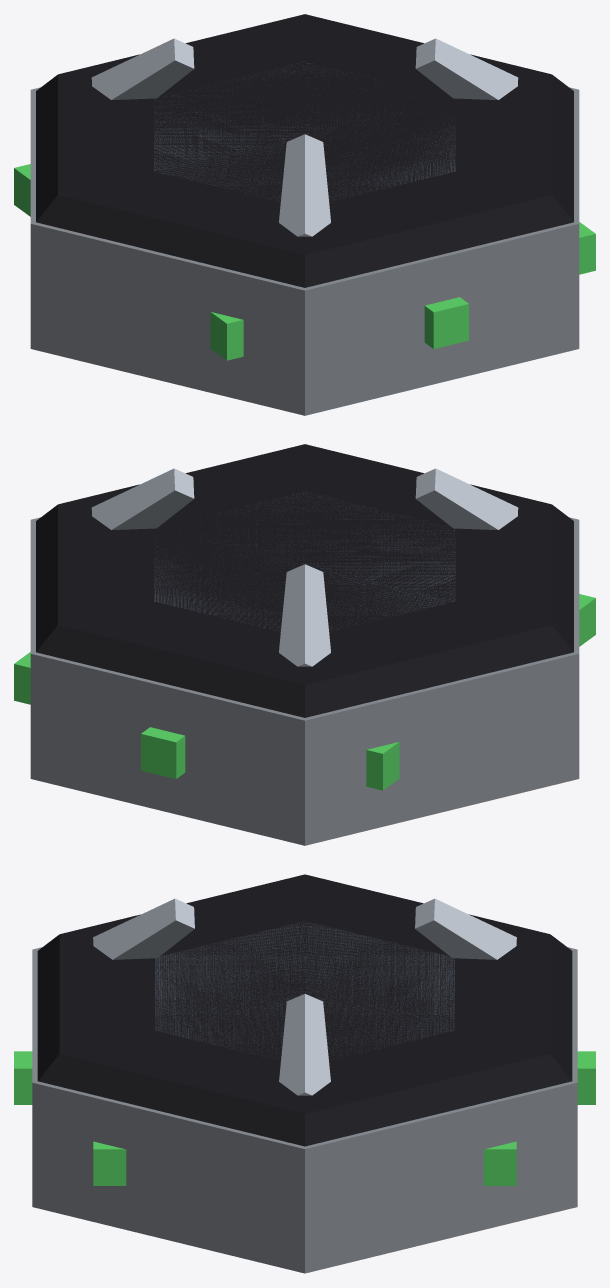
Rendered from ship_docking_clamp.obj.
3 renders of one model, top to bottom at view 1: azimuth 30°, elevation 25°; view 2: azimuth 150°, elevation 25°; view 3: azimuth 270°, elevation 25°, orthographic.
Parts seen in each view (by area): view 1: seal, collar, hooks, bore, leds; view 2: seal, collar, hooks, bore, leds; view 3: seal, collar, bore, hooks, leds.
Boxes of the visible parts, x1,y1,x2,y2 form: seal: (36,14,573,287); collar: (30,87,579,415); hooks: (91,38,518,236); bore: (154,63,455,201); leds: (14,164,595,360); seal: (36,444,573,717); collar: (30,517,579,845); hooks: (91,468,518,666); bore: (154,492,455,631); leds: (14,594,595,790); seal: (37,874,572,1146); collar: (32,947,577,1273); bore: (155,921,454,1058); hooks: (93,898,516,1095); leds: (14,1051,595,1185).
Size of the model in its own units: 1.56 by 0.5747 by 1.44.
